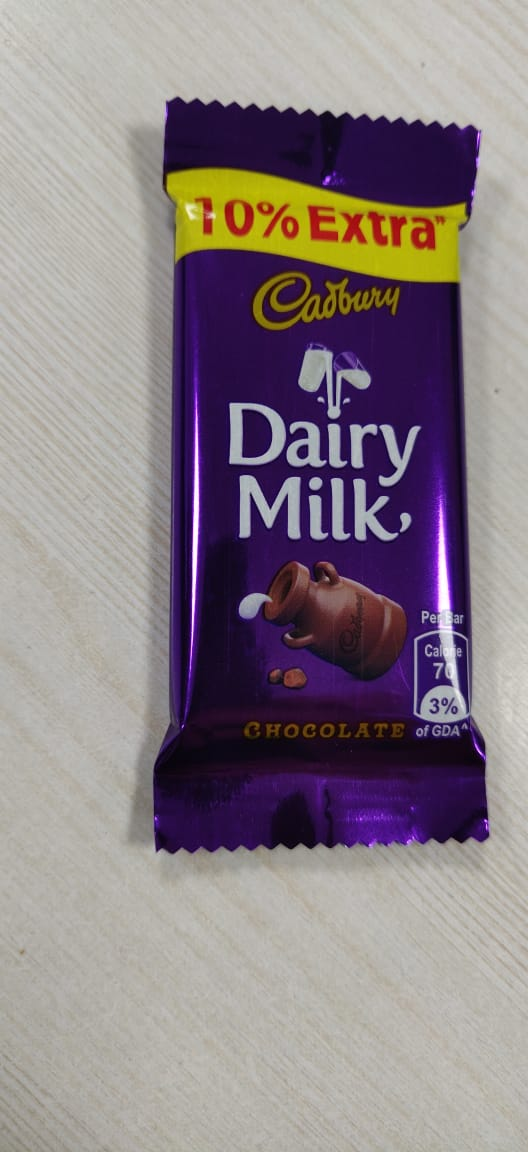dairy milk: (141, 83, 513, 879)
